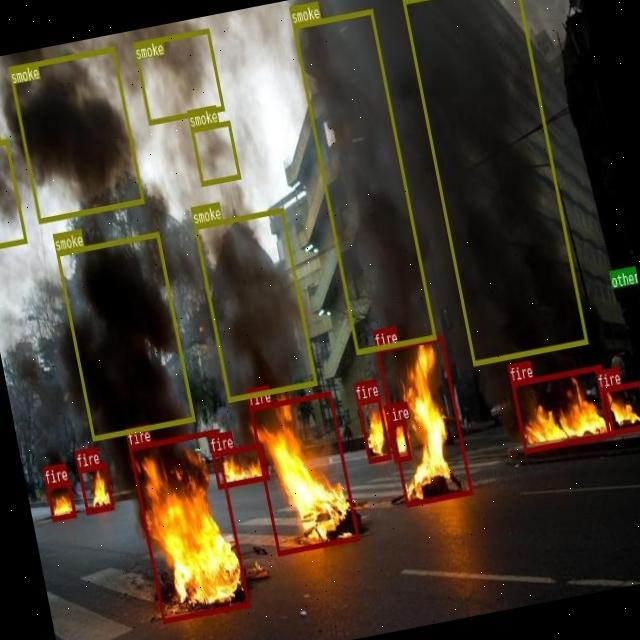fire: (128, 428, 250, 622), (248, 390, 359, 554), (375, 334, 473, 506), (510, 364, 614, 452), (212, 442, 270, 488), (356, 397, 391, 462), (599, 380, 640, 435), (78, 463, 114, 513), (45, 480, 76, 521), (387, 420, 411, 462)
smoke: (402, 0, 588, 365), (292, 8, 436, 354), (55, 232, 195, 441), (194, 207, 318, 402), (8, 46, 144, 223), (133, 28, 224, 124), (190, 120, 240, 186), (0, 138, 27, 249)
